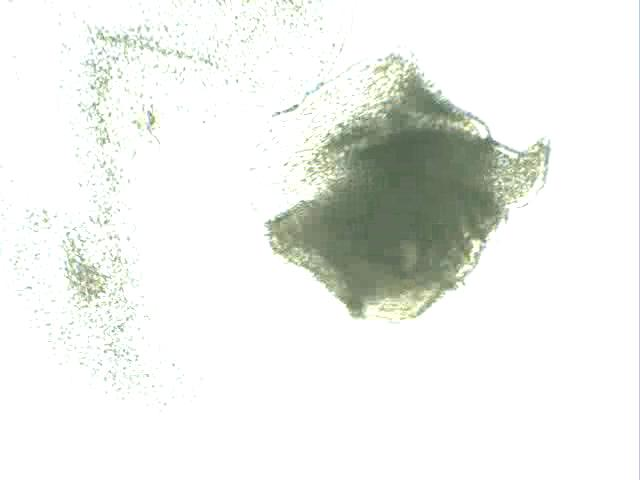Placozoan: (243, 45, 553, 321)
